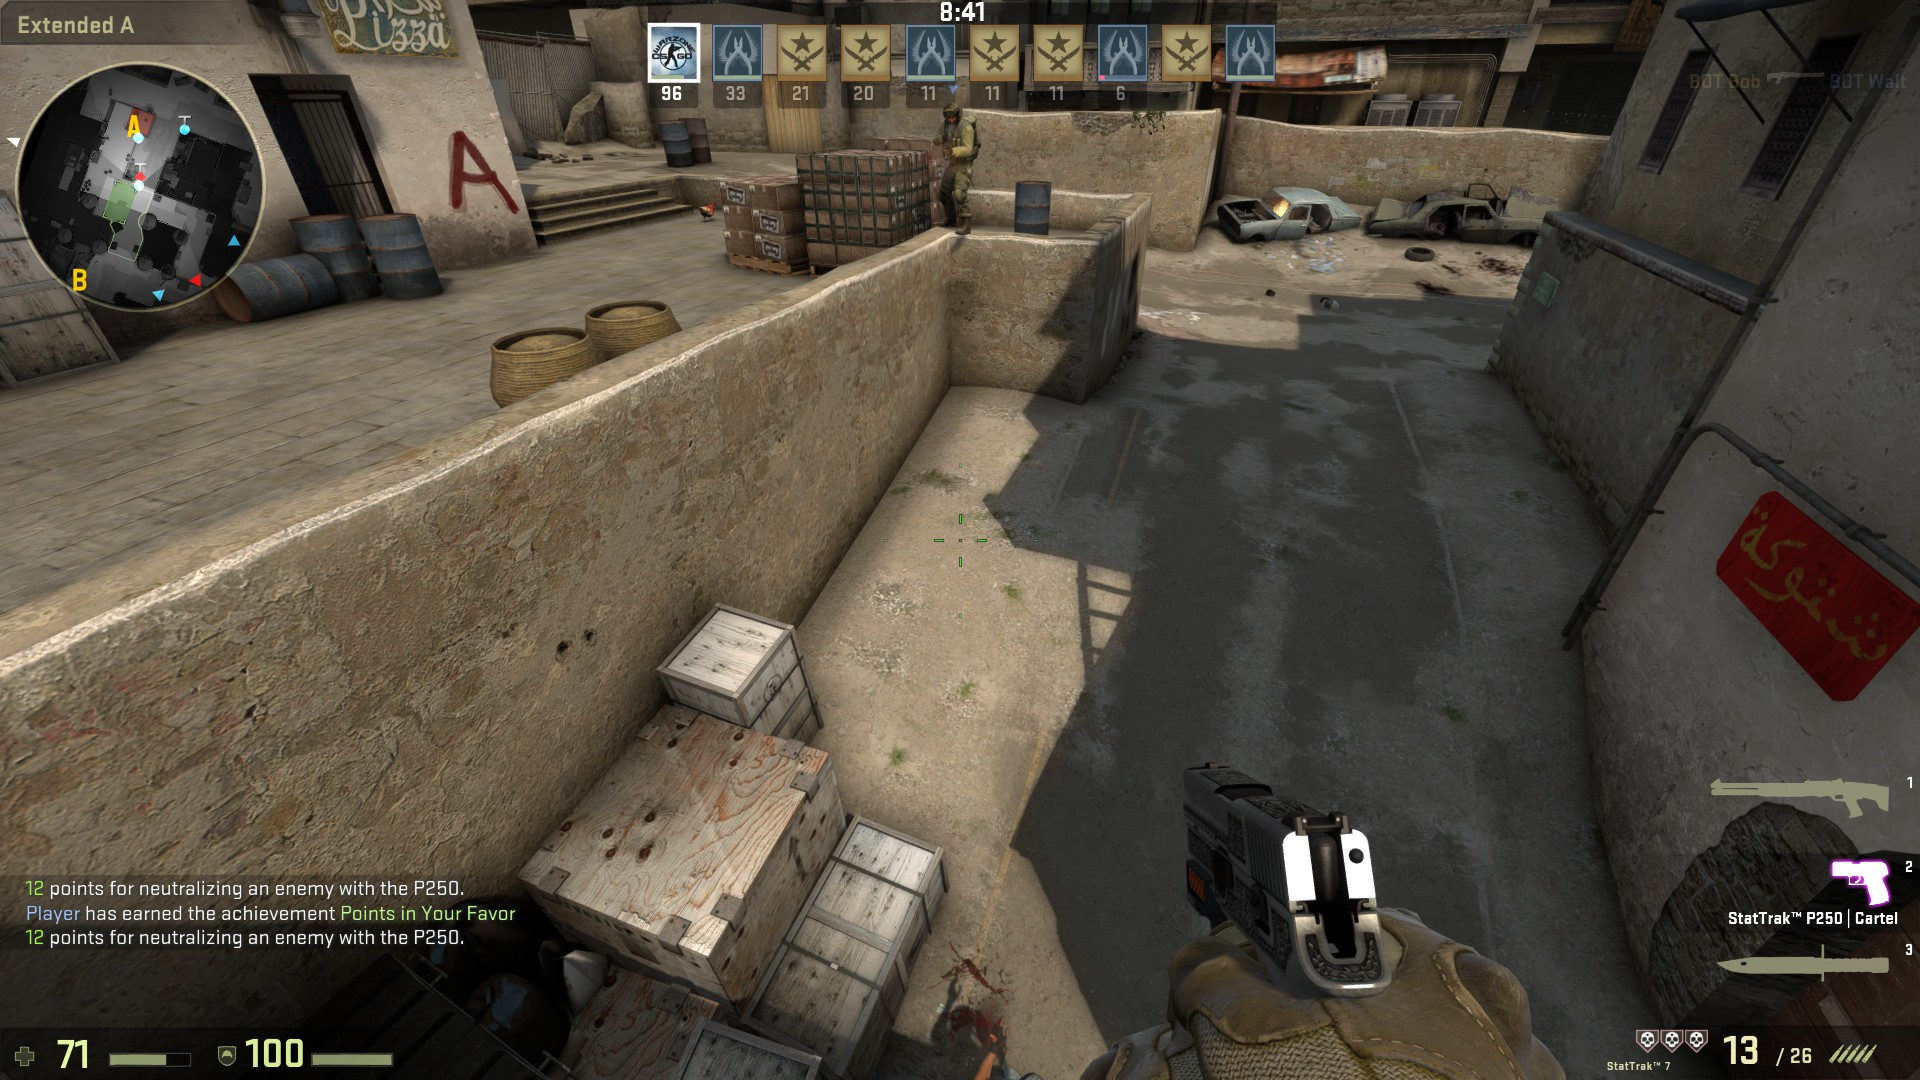c: (934, 100, 976, 240)
ch: (942, 102, 964, 127)
